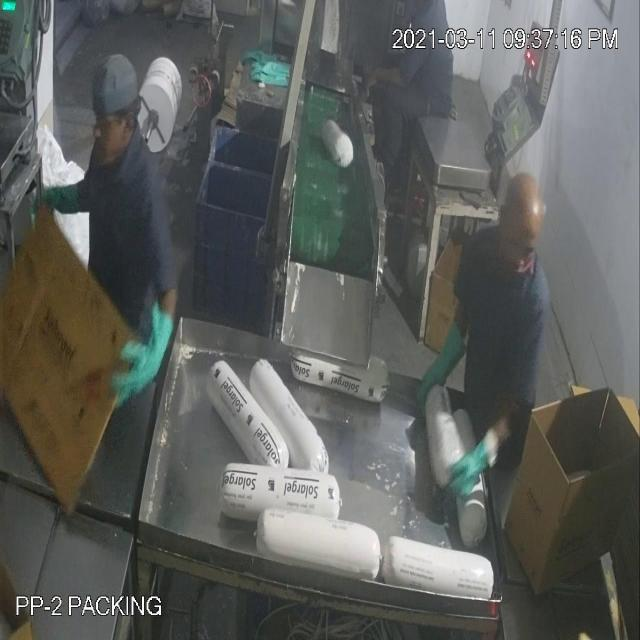Gloves: (48, 70, 469, 458)
